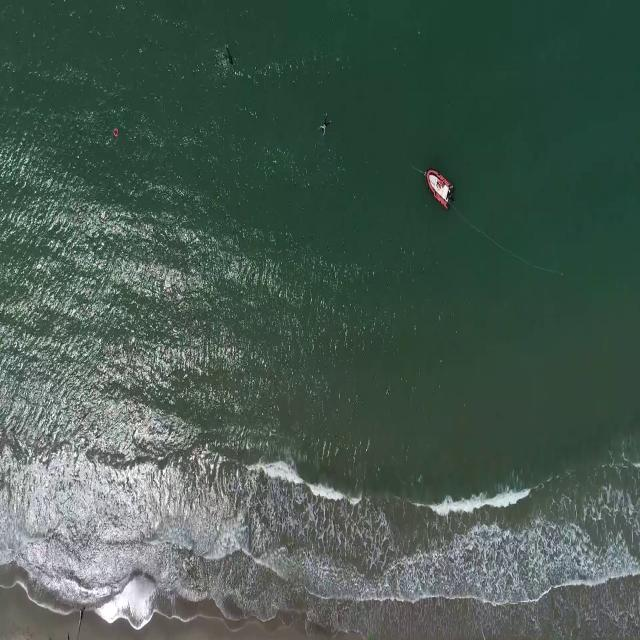boat: (426, 165, 454, 211)
life_buoy: (112, 125, 120, 137)
person: (222, 47, 237, 68), (319, 114, 332, 138)
wood: (71, 601, 87, 640)
